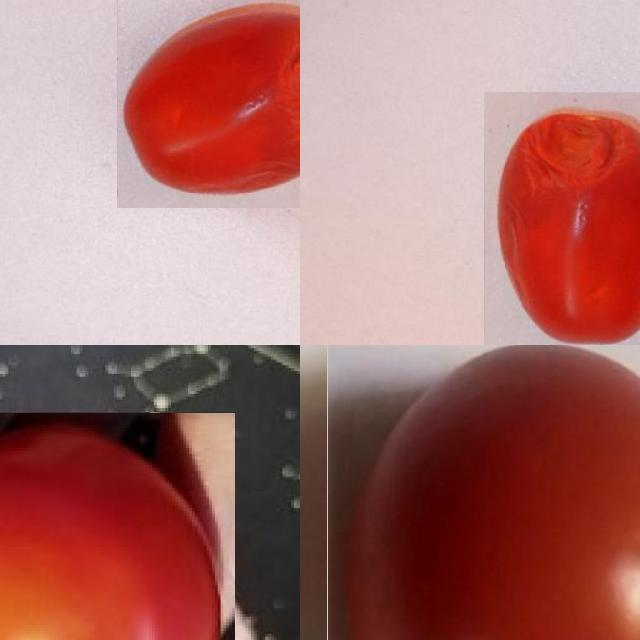Fresh Tomato: (327, 345, 640, 640), (0, 412, 235, 640)
Rotten Tomato: (484, 91, 640, 345), (117, 0, 300, 208)
